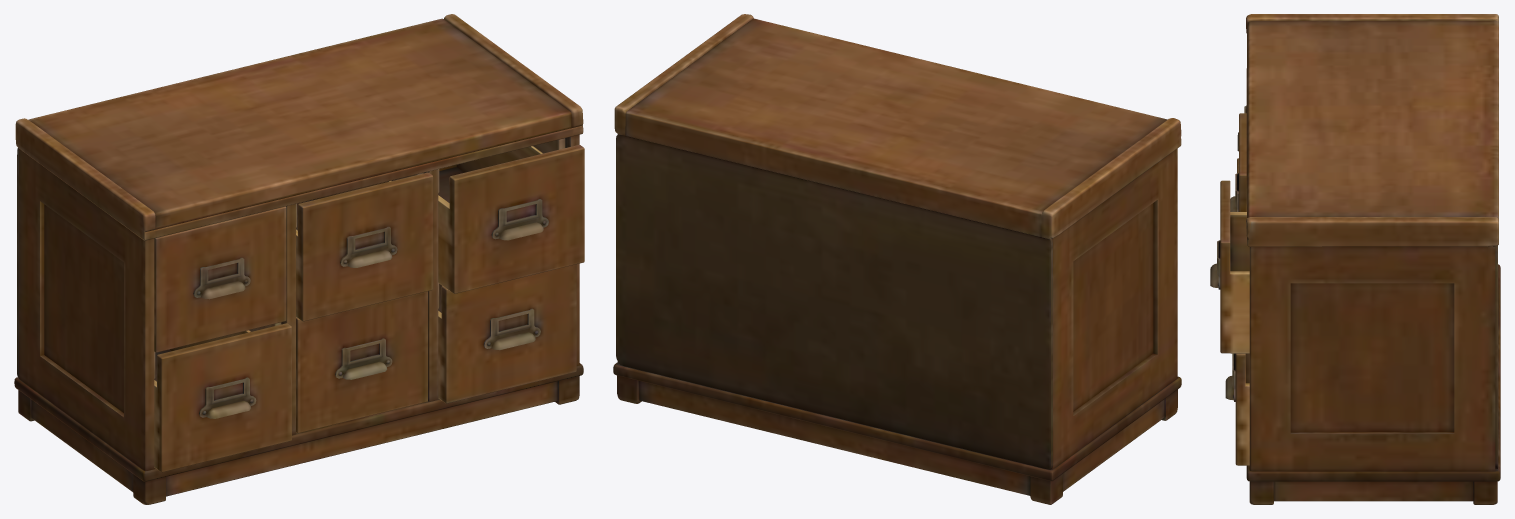
3 views of the same model, side by side, from view 1: azimuth 30°, elevation 25°; view 2: azimuth 150°, elevation 25°; view 3: azimuth 270°, elevation 25° (orthographic). The views are drawn at different scales.
Parts seen in each view (by area): view 1: vintage_wooden_drawer_01_body, vintage_wooden_drawer_01_drawer03, vintage_wooden_drawer_01_drawer04, vintage_wooden_drawer_01_drawer02, vintage_wooden_drawer_01_drawer01, vintage_wooden_drawer_01_drawer06, vintage_wooden_drawer_01_drawer05; view 2: vintage_wooden_drawer_01_body; view 3: vintage_wooden_drawer_01_body, vintage_wooden_drawer_01_drawer03, vintage_wooden_drawer_01_drawer06, vintage_wooden_drawer_01_drawer02.
Boxes of the visible parts, x1,y1,x2,y2 form: vintage_wooden_drawer_01_body: (14,14,583,504); vintage_wooden_drawer_01_drawer03: (438,145,584,293); vintage_wooden_drawer_01_drawer04: (154,323,291,472); vintage_wooden_drawer_01_drawer02: (296,172,433,321); vintage_wooden_drawer_01_drawer01: (154,206,286,352); vintage_wooden_drawer_01_drawer06: (438,264,576,403); vintage_wooden_drawer_01_drawer05: (296,291,427,433); vintage_wooden_drawer_01_body: (613,14,1181,504); vintage_wooden_drawer_01_body: (1246,14,1500,504); vintage_wooden_drawer_01_drawer03: (1210,180,1249,353); vintage_wooden_drawer_01_drawer06: (1225,353,1249,465); vintage_wooden_drawer_01_drawer02: (1230,113,1246,211).
Bounding box in the file's own units: 1.72 × 1.09 × 1.01.
Materials: 1 (1 with a texture image).
